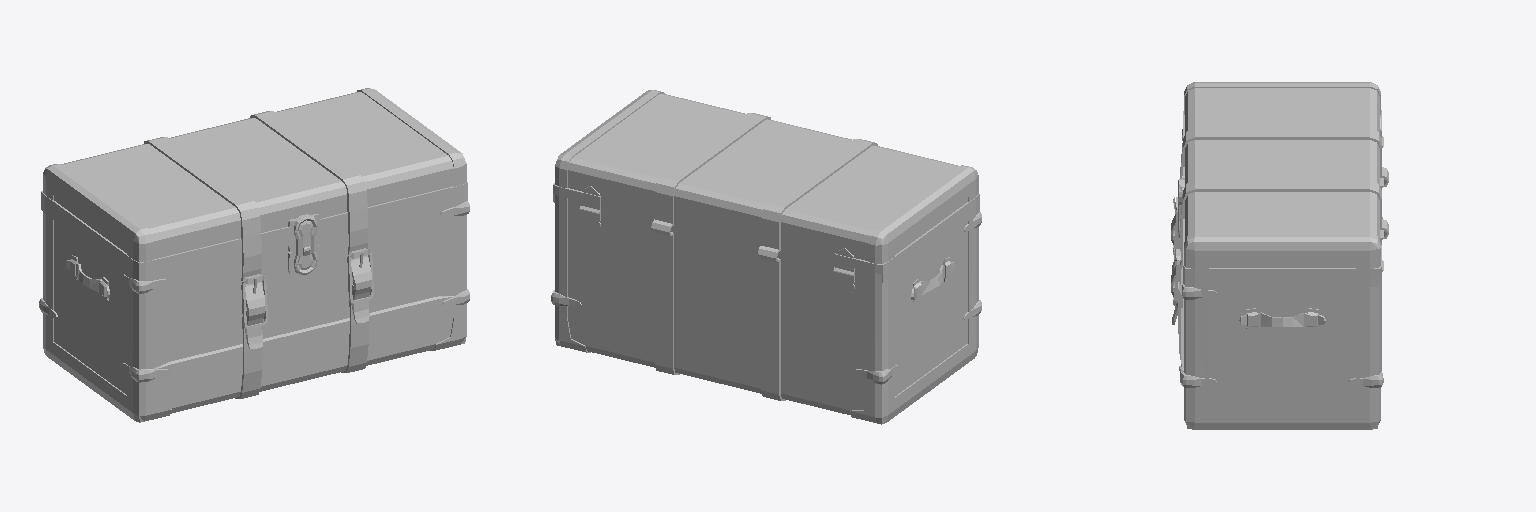
Rendered from Chest.obj.
3 views of the same model, side by side, from view 1: azimuth 30°, elevation 25°; view 2: azimuth 150°, elevation 25°; view 3: azimuth 270°, elevation 25° (orthographic).
Visible parts, largest first — view 1: Chest_Untitled; view 2: Chest_Untitled; view 3: Chest_Untitled.
Boxes of the visible parts, x1,y1,x2,y2 form: Chest_Untitled: [39, 88, 469, 422]; Chest_Untitled: [551, 90, 981, 424]; Chest_Untitled: [1171, 82, 1388, 429].
Bounding box in the file's own units: 0.8018 × 0.431 × 0.4399.